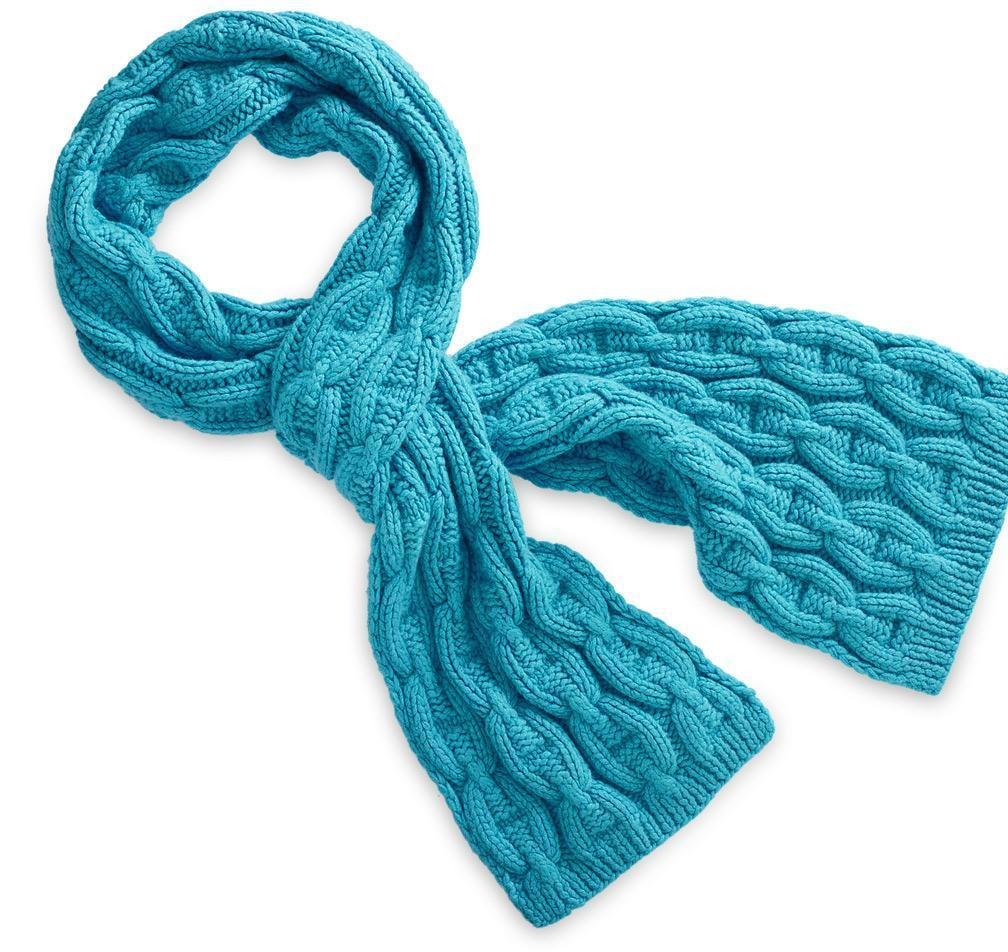flexible: (58, 12, 1008, 934)
